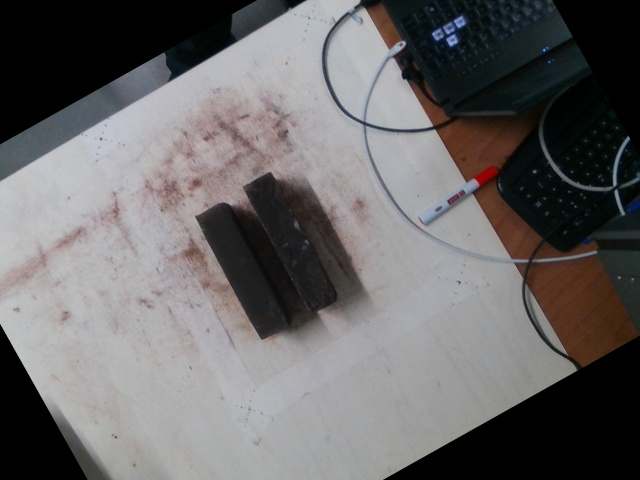brick-side: (242, 173, 340, 314), (195, 203, 289, 340)
